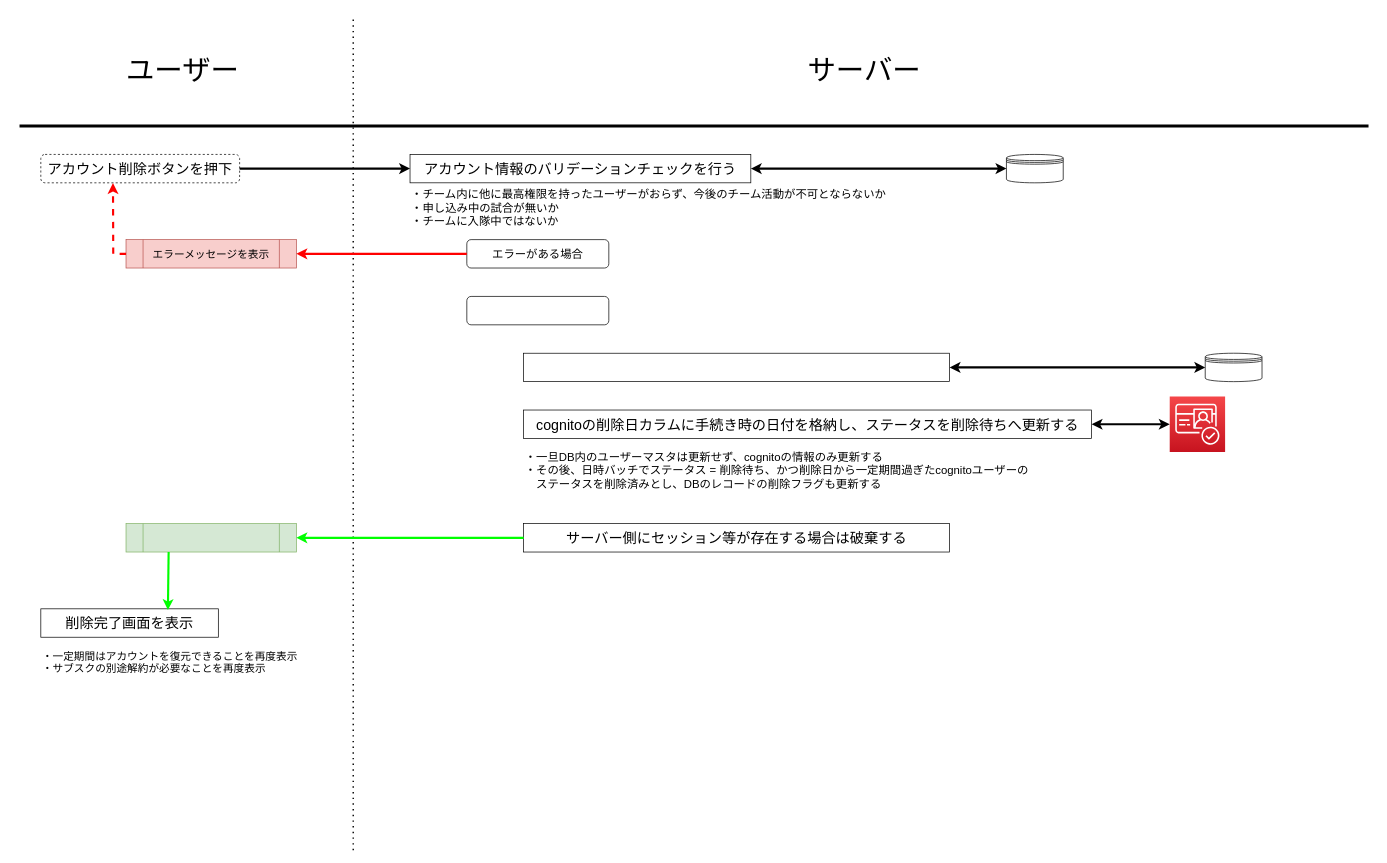
The diagram is 1387 pixels wide and 863 high, and some of its shapes have lost their labels. The shapes that lost their labels are listed below. From the top down, each one's box as (x1, y1, x2, y2) in pixels, then its label:
(466, 296, 609, 325): エラーがない場合
(523, 353, 950, 382): チームテーブルなど、紐付いている情報の削除フラグを立てる
(125, 523, 296, 552): サクセスメッセージを表示
